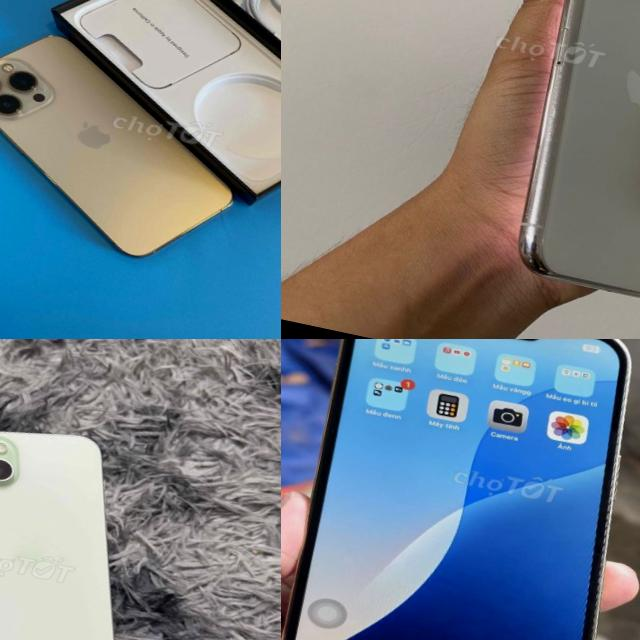scratch: (516, 0, 585, 257)
